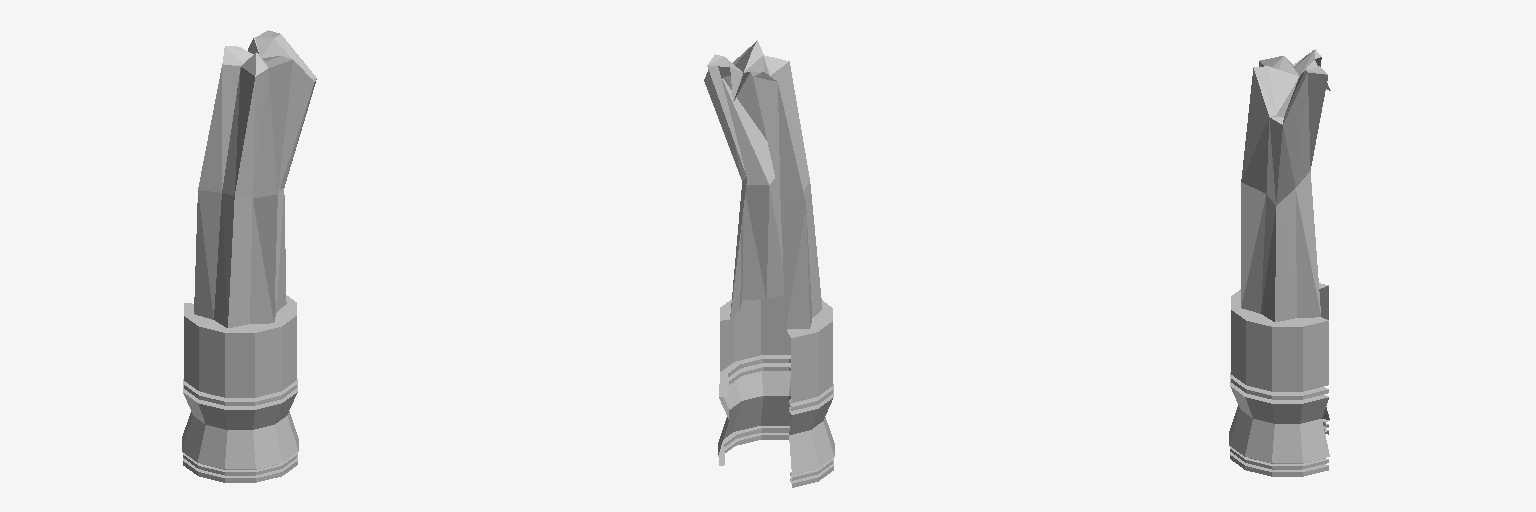
Rendered from pilierCasse5.obj.
3 renders of one model, left to right at view 1: azimuth 30°, elevation 25°; view 2: azimuth 150°, elevation 25°; view 3: azimuth 270°, elevation 25°, orthographic.
Size of the model in its own units: 0.3529 by 1.09 by 0.2487.